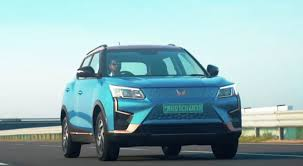XUV 400: (58, 42, 242, 162)
